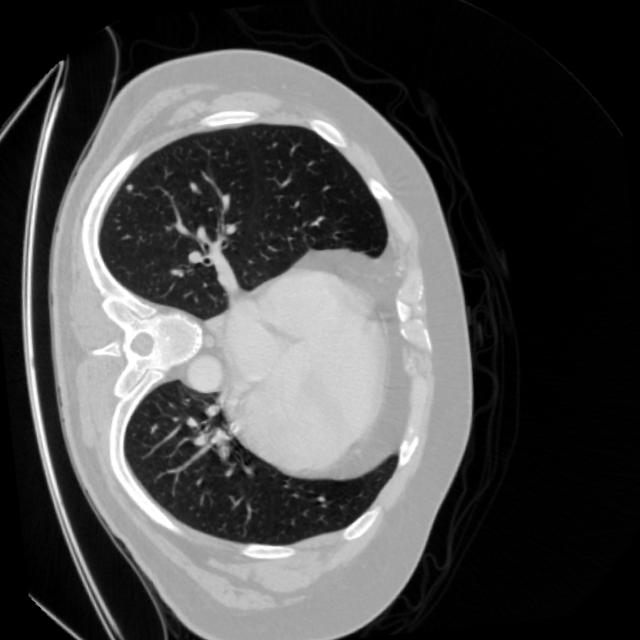nodule: (120, 175, 140, 195)
